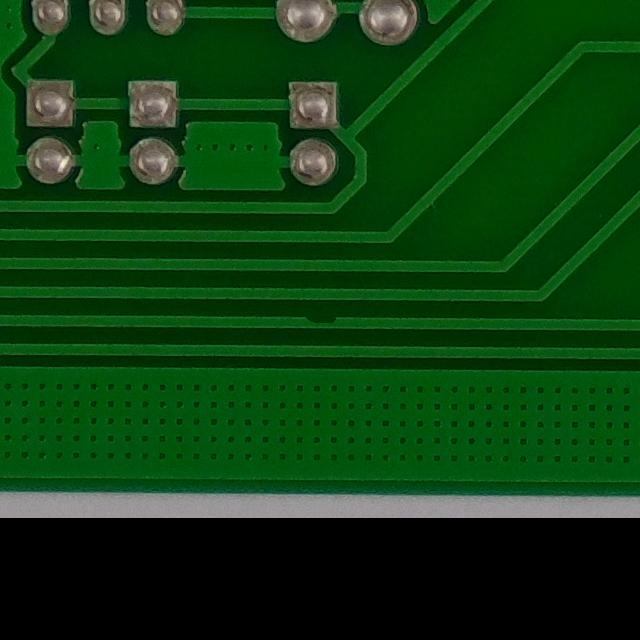mouse_bite: (299, 298, 342, 342)
